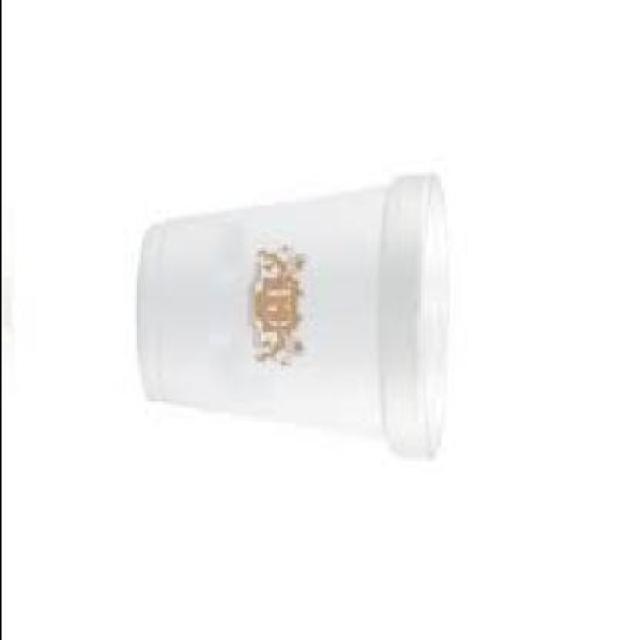PAPER: (134, 182, 446, 462)
